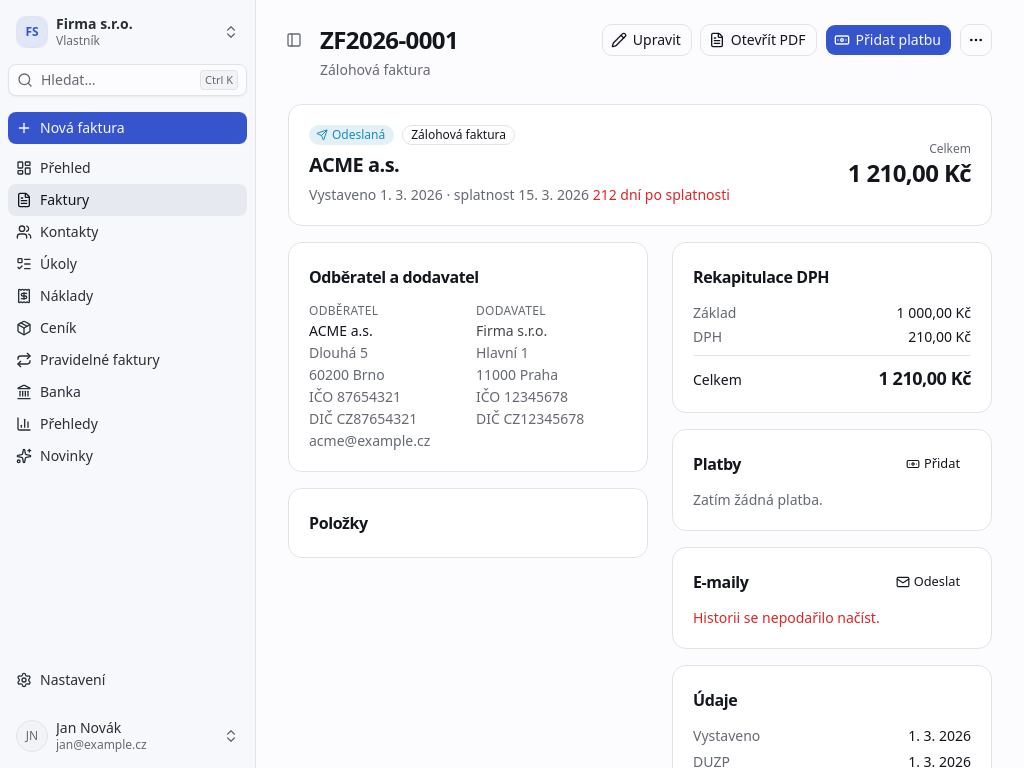
Scenario: zálohy — platba › částečná platba nepředvolí vyúčtování; plátce vidí daňový doklad k platbě
Expected: the heading "ZF2026-0001" is shown, [320,23,458,56]
Click the button "Přidat platbu".
click(888, 40)  # box [825,24,952,56]
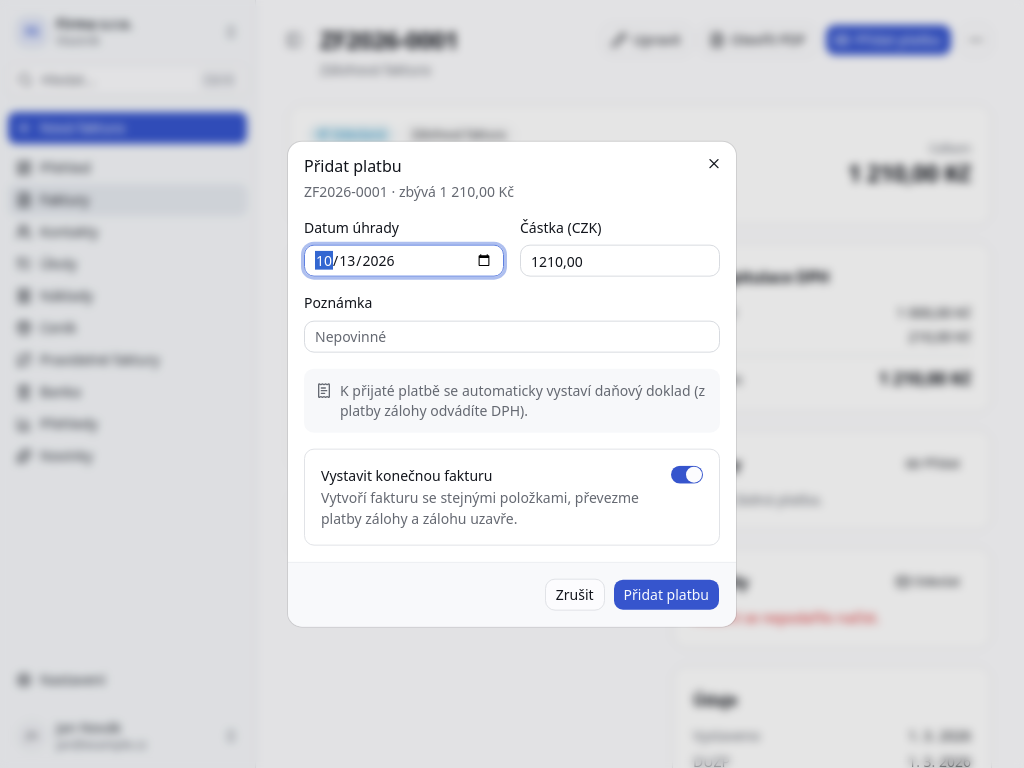
Expected: the text "automaticky vystaví daňový doklad" is shown, [340,380,705,419]
Expected: the switch named "Vystavit konečnou fakturu" is checked, [671,465,703,484]
Replace the text in the field labelled "Částka (CZK)" with "400" at (620, 261), box [520,245,720,277]
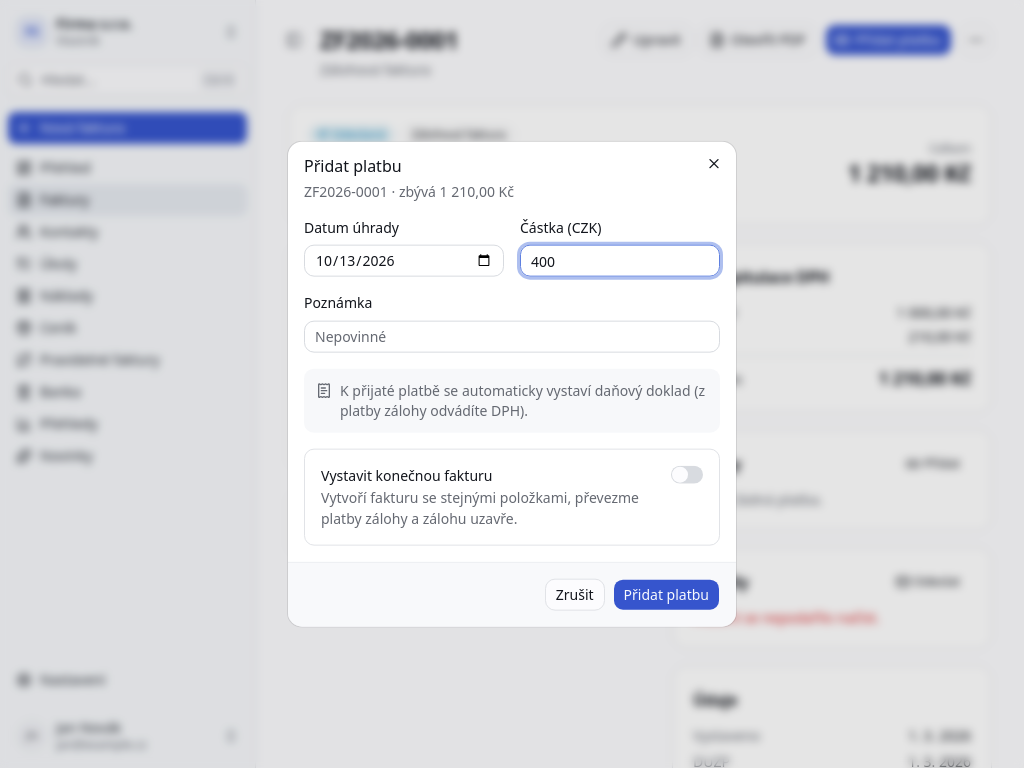
Expected: the switch named "Vystavit konečnou fakturu" is not checked
vědomá volba: zbytek zůstane na konečné faktuře
Click the switch named "Vystavit konečnou fakturu".
click(687, 474)  # box [671,465,703,484]
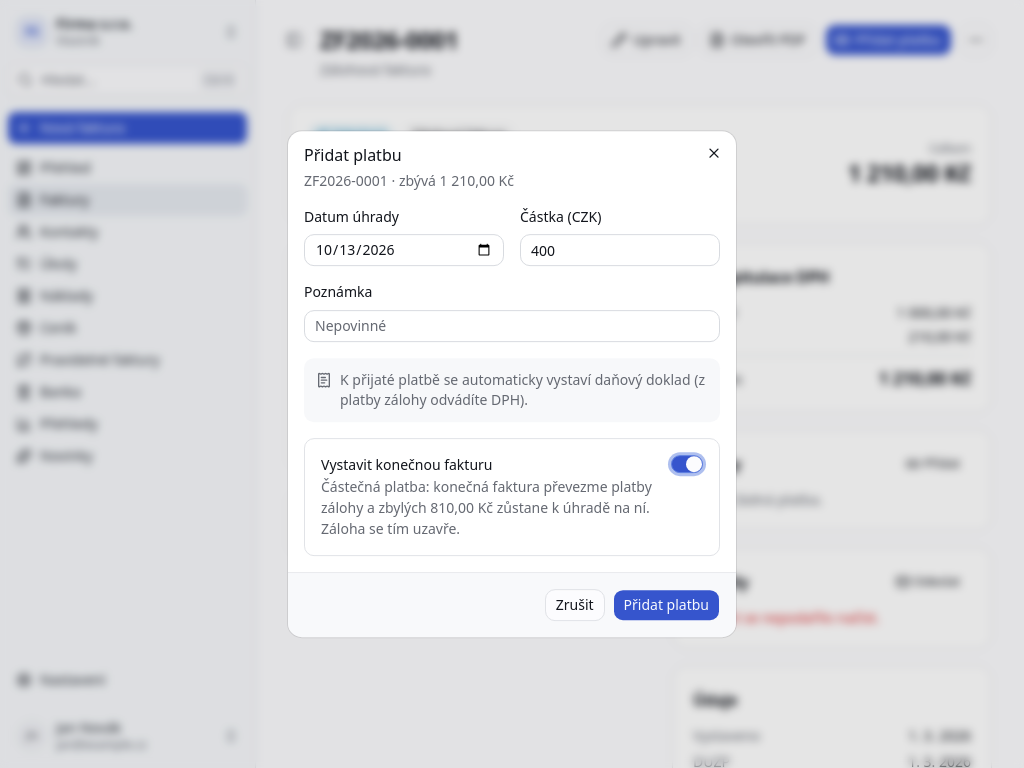
Expected: the text "zůstane k úhradě na ní" is shown, [321,477,652,538]
Click the switch named "Vystavit konečnou fakturu".
click(687, 464)  # box [671,455,703,473]
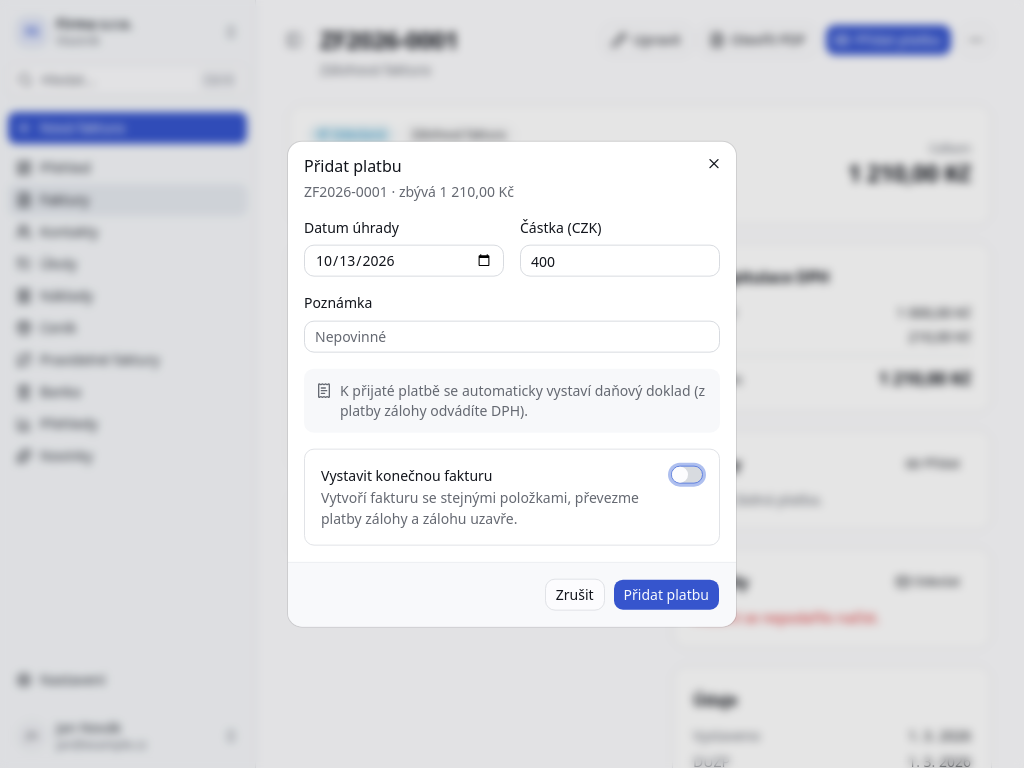
Click the button "Přidat platbu".
click(666, 594)  # box [613,578,720,610]
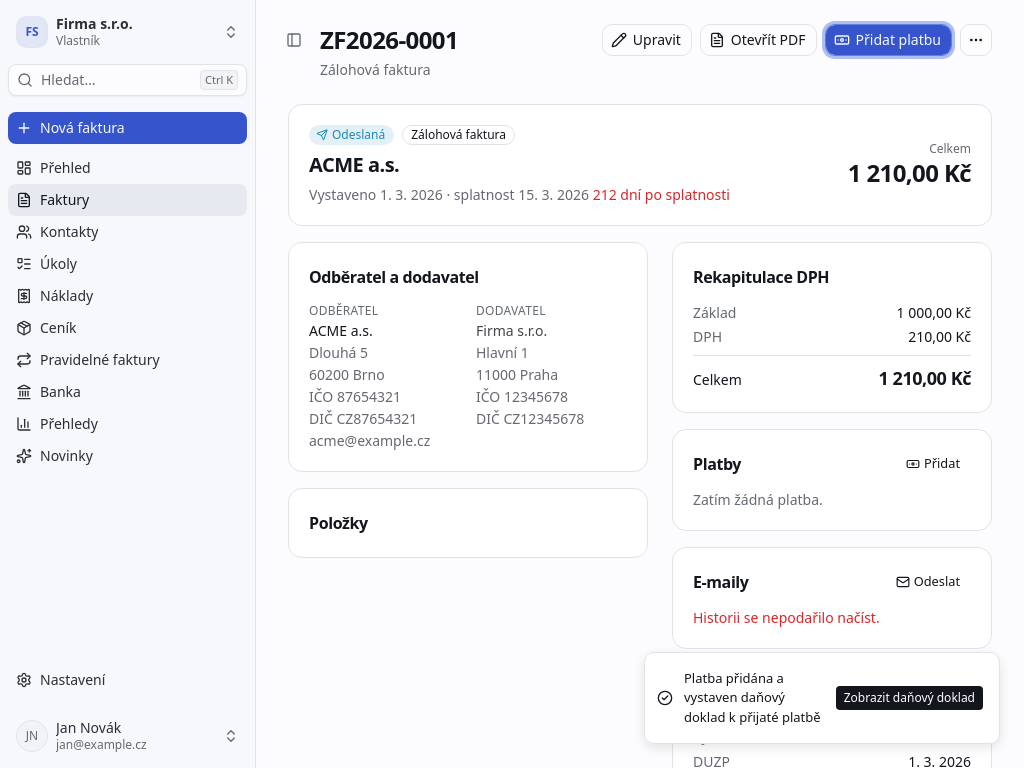
Expected: the text "Platba přidána a vystaven daňový doklad k přijaté platbě" is shown, [684,668,830,727]
Expected: the button "Zobrazit daňový doklad" is shown, [836,686,983,710]
